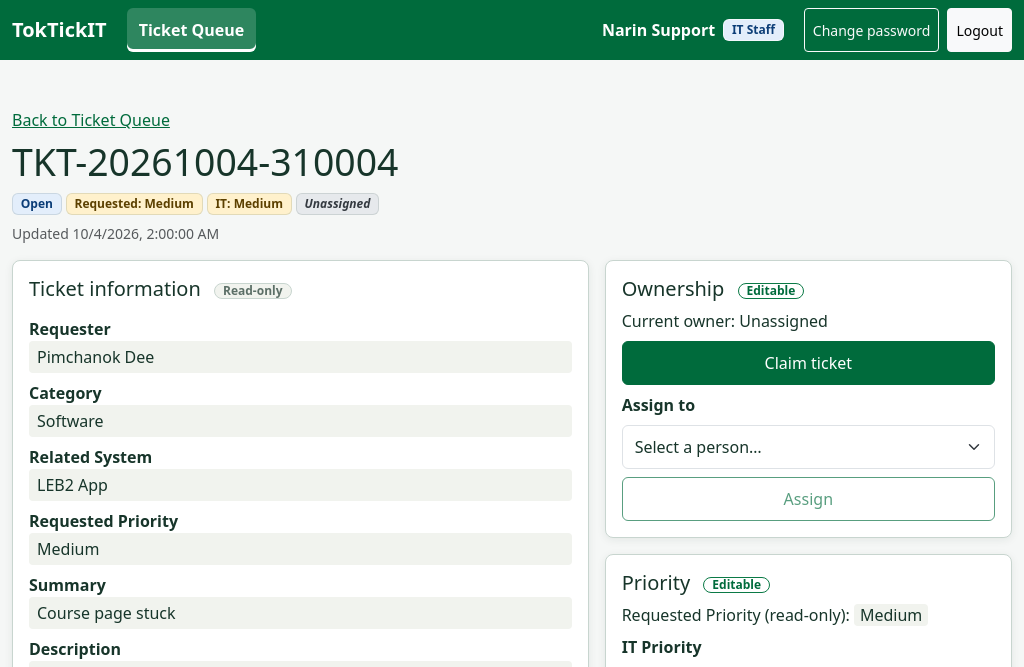
Test: UI-06 Staff Ticket Detail › claims an unassigned ticket sending the current version
The image size is (1024, 667).
Click the button "Claim ticket" at coordinates (808, 363), box [622,341,995,385]
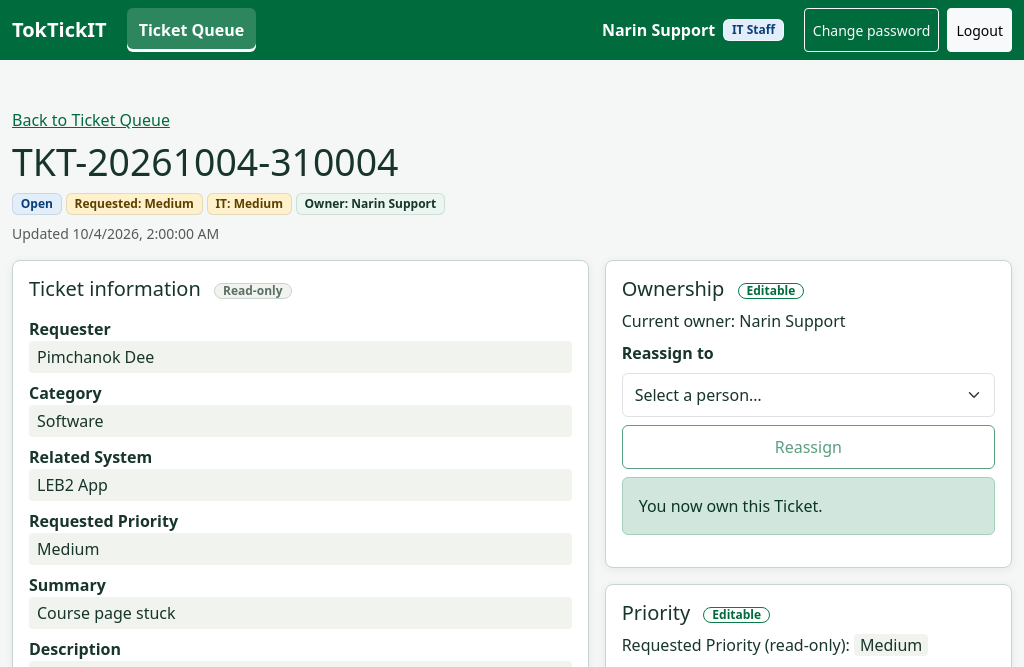
Expected: the text "Narin Support" is shown, [602,18,715,42]
Now the text "You now own this Ticket." is shown, box [622,477,995,535]
Now the button "Claim ticket" is gone
